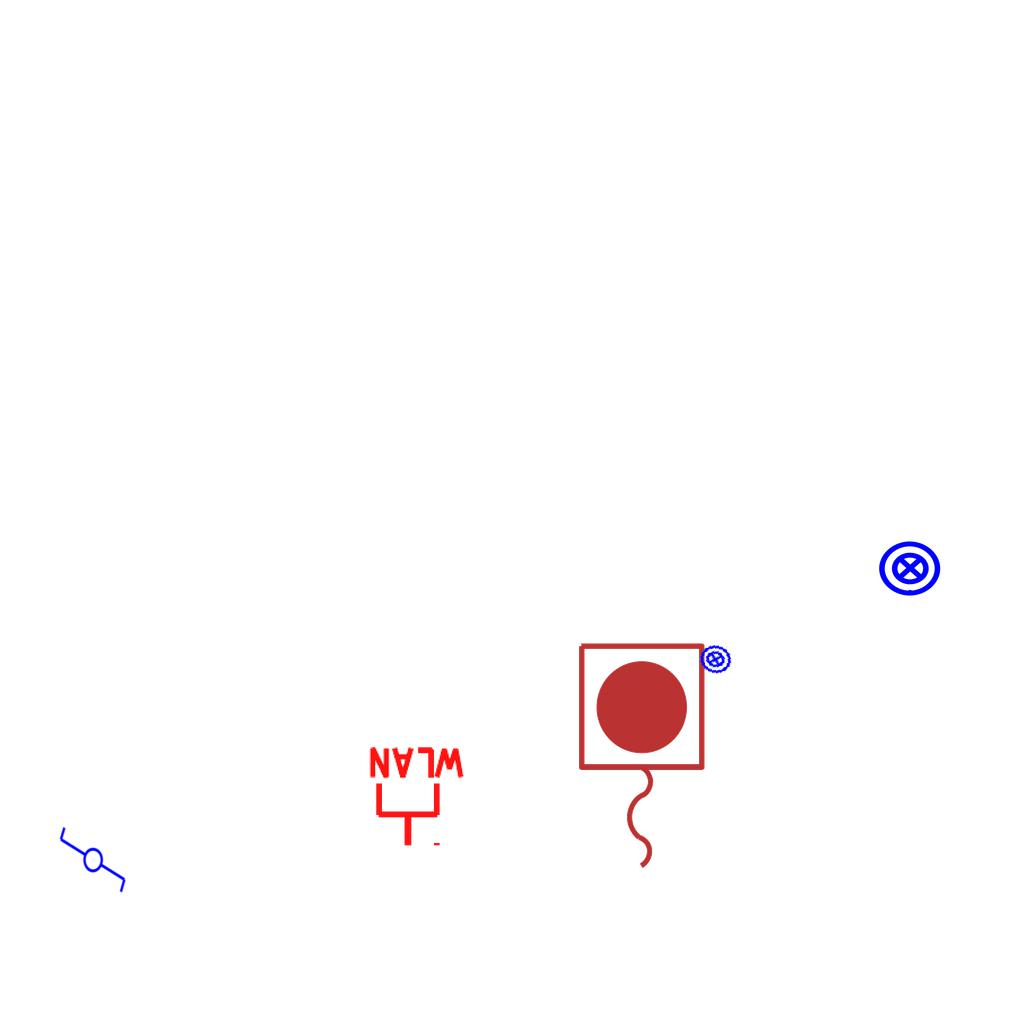Taster_beleuchtet: (877, 535, 943, 601), (695, 639, 736, 680)
WLAN: (365, 745, 469, 850)
Wechselschalter: (56, 825, 128, 903)
Zugtaster: (568, 635, 712, 879)
